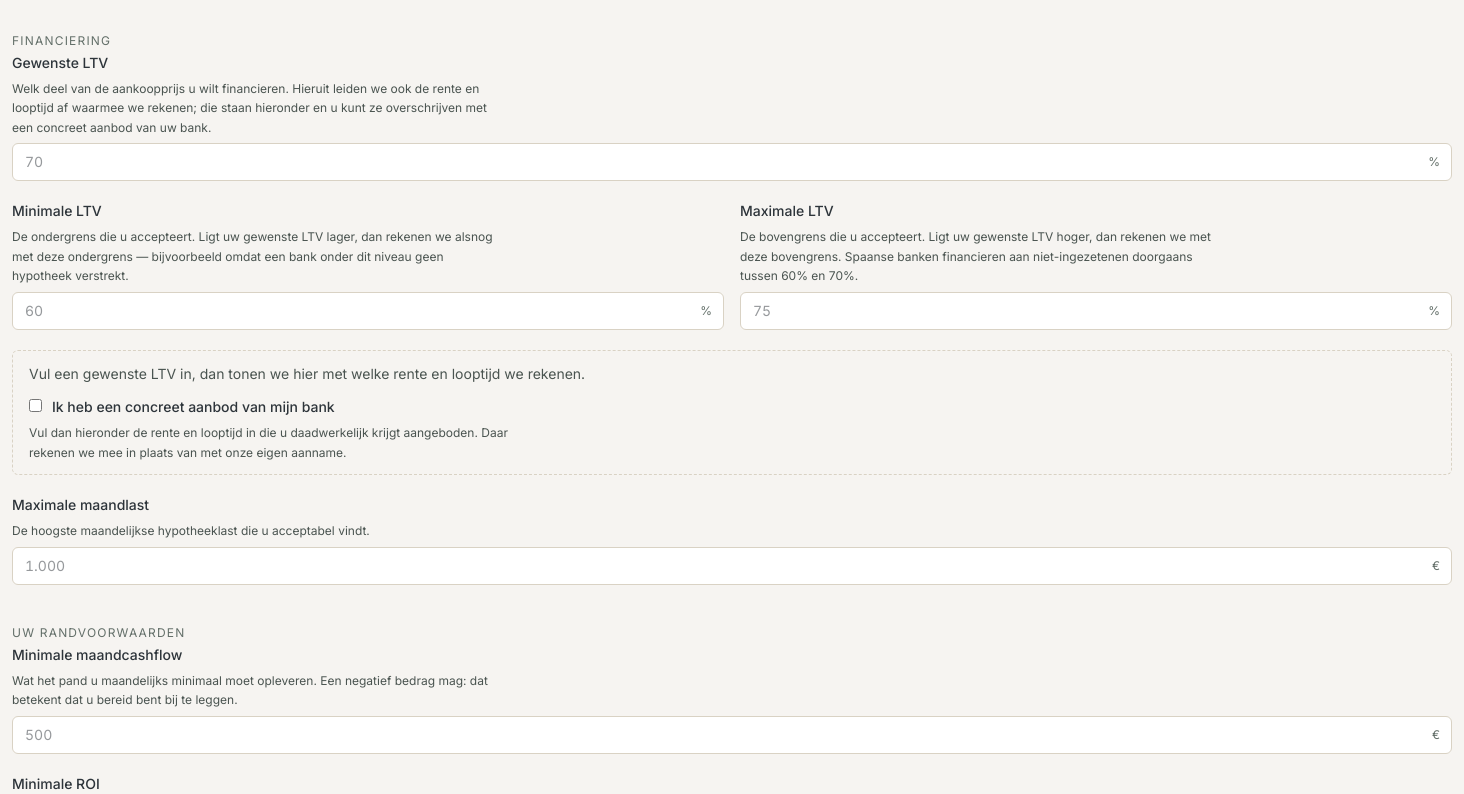
Test: BeleggerForm - the bank-offer override (fase C stap 3) › reveals both fields, each optional, once ticked
The width and height of the screenshot is (1464, 794).
(page scrolled)
Click the checkbox labelled "Ik heb een concreet aanbod van mijn bank": [36, 406] box 29,399 -> 42,412
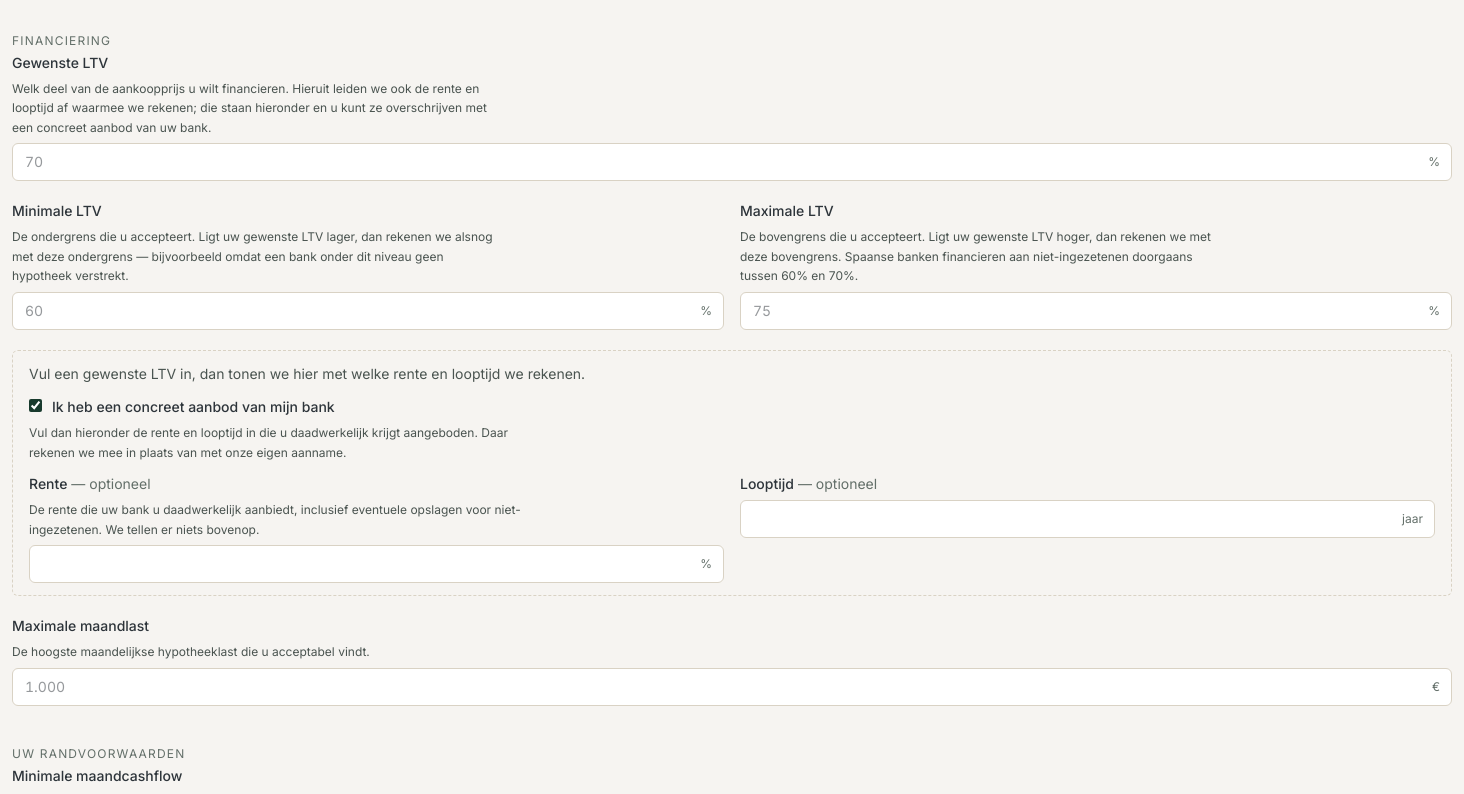
Result: the field labelled "Rente — optioneel" is shown at 29,545 -> 724,583
Result: the field labelled "Looptijd — optioneel" is shown at 740,500 -> 1435,538
